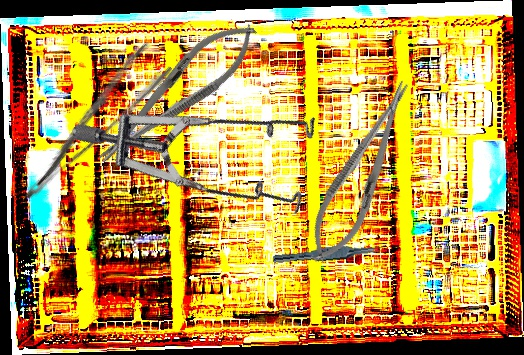Dressing Forceps: (1, 40, 176, 204)
Needle Holder: (84, 8, 269, 178), (296, 71, 428, 275)
Speculum: (67, 1, 353, 282)
Tissue Forceps: (272, 239, 386, 270)
